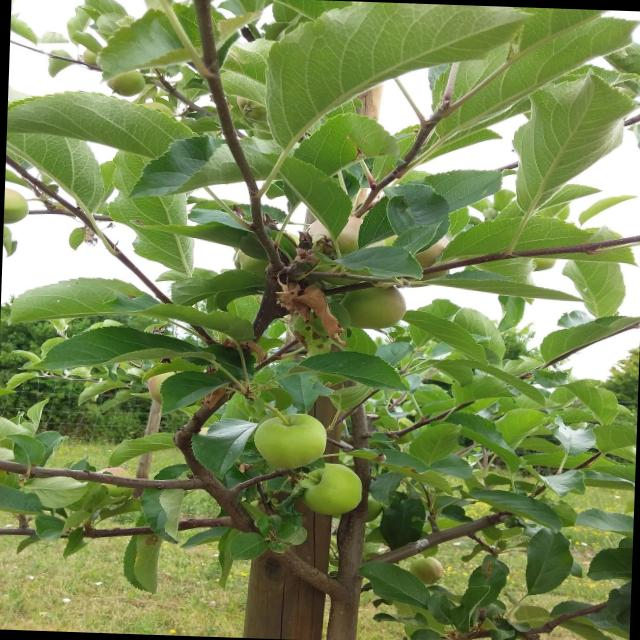-FireBlight-: (276, 257, 341, 337)
